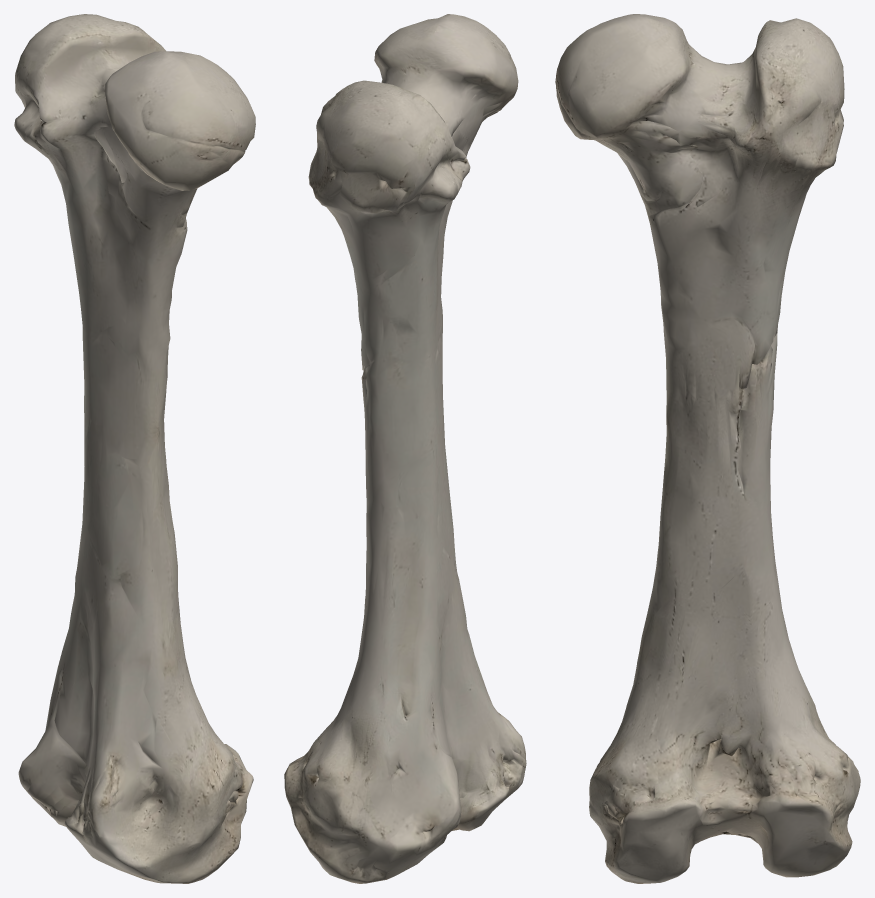
File: bone.glb
The picture shows the model from 3 angles, left to right: view 1: azimuth 30°, elevation 25°; view 2: azimuth 150°, elevation 25°; view 3: azimuth 270°, elevation 25°; orthographic projection. The views are drawn at different scales.
Visible parts, largest first — view 1: tripo_node_9acd655b-ca24-4a54-8d55-954a077046f0; view 2: tripo_node_9acd655b-ca24-4a54-8d55-954a077046f0; view 3: tripo_node_9acd655b-ca24-4a54-8d55-954a077046f0.
Part boxes in pixels (left/top/right/bottom): tripo_node_9acd655b-ca24-4a54-8d55-954a077046f0: left=14, top=14, right=255, bottom=883; tripo_node_9acd655b-ca24-4a54-8d55-954a077046f0: left=284, top=14, right=526, bottom=883; tripo_node_9acd655b-ca24-4a54-8d55-954a077046f0: left=555, top=14, right=860, bottom=883.
Size of the model in its own units: 0.207 by 0.9805 by 0.3199.
Materials: 1 (1 with a texture image).
